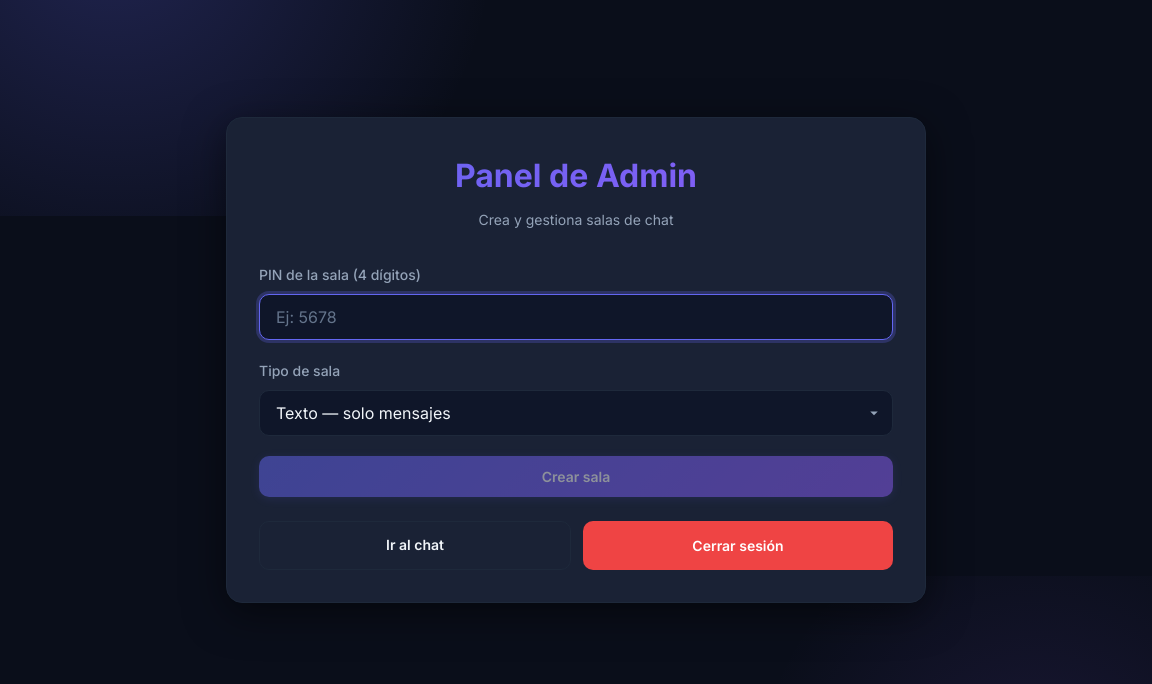
Test: AdminDashboard › creates a new room
Expected: the heading "Panel de Admin" is shown, left=259, top=150, right=893, bottom=201
Type "1111" into the field labelled "PIN de la sala (4 dígitos)" at (576, 317), box left=259, top=294, right=893, bottom=340
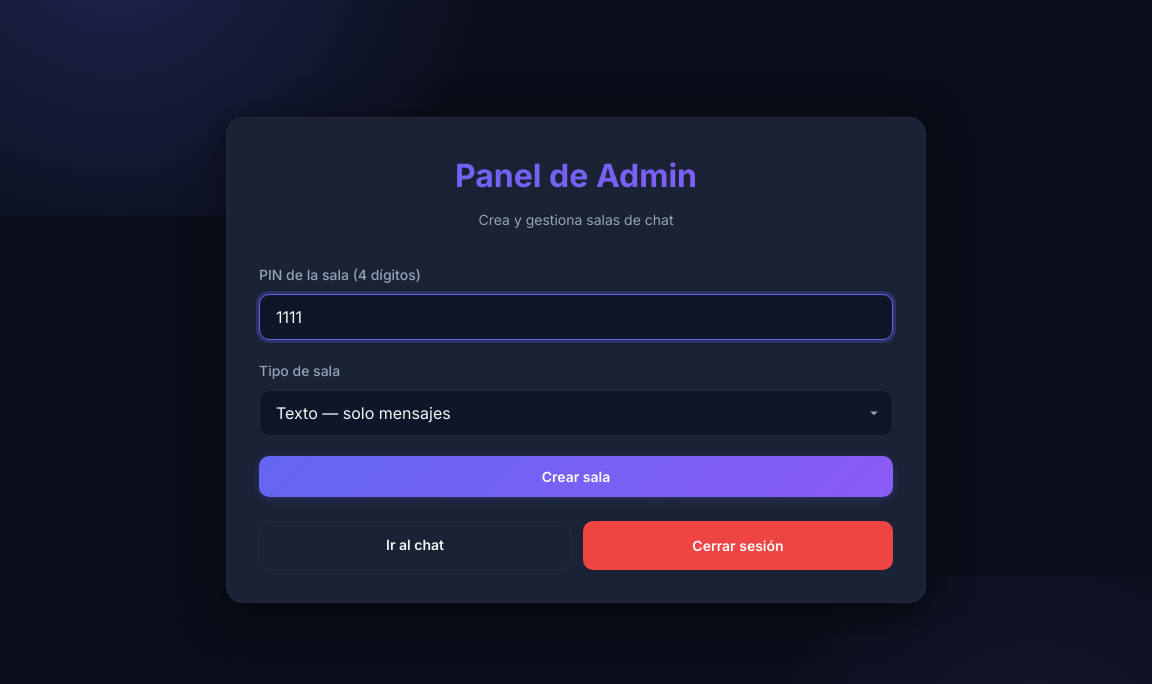
Click the button "Crear sala" at (576, 477), box left=259, top=456, right=893, bottom=498
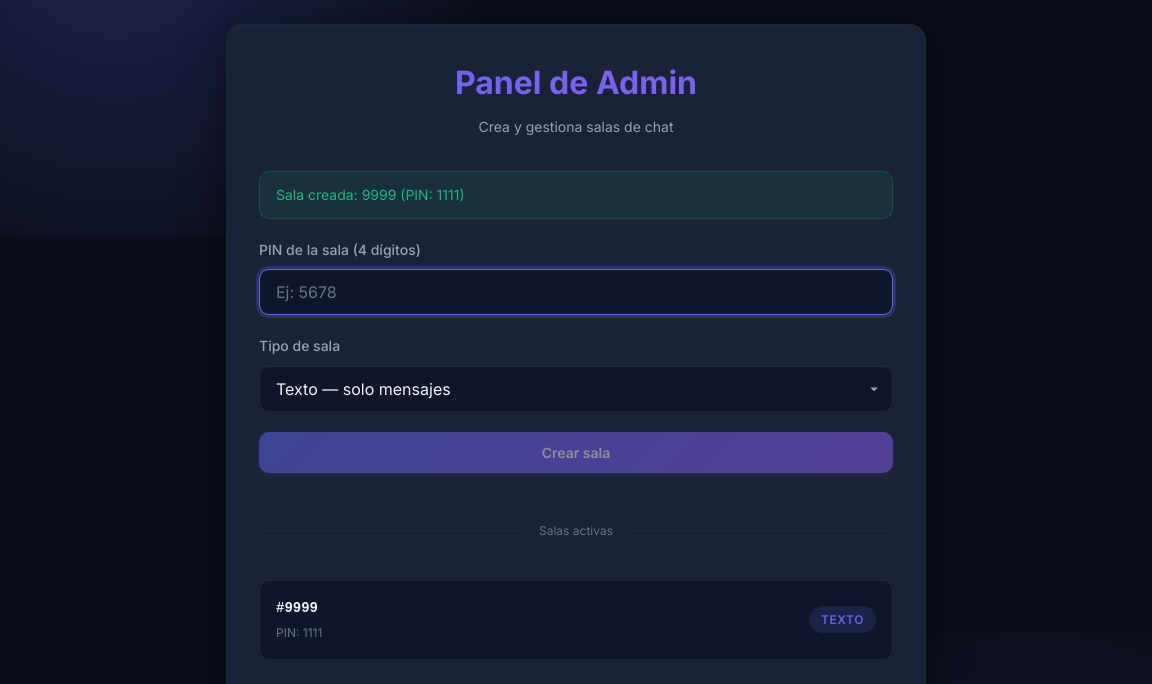
Now the text "Sala creada: 9999 (PIN: 1111)" is shown, box left=259, top=171, right=893, bottom=219
